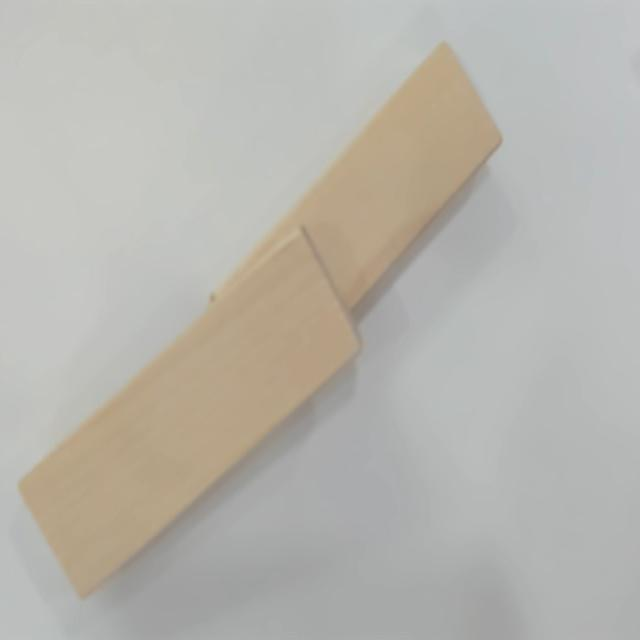Jenga: (19, 223, 367, 602), (207, 38, 504, 389)
